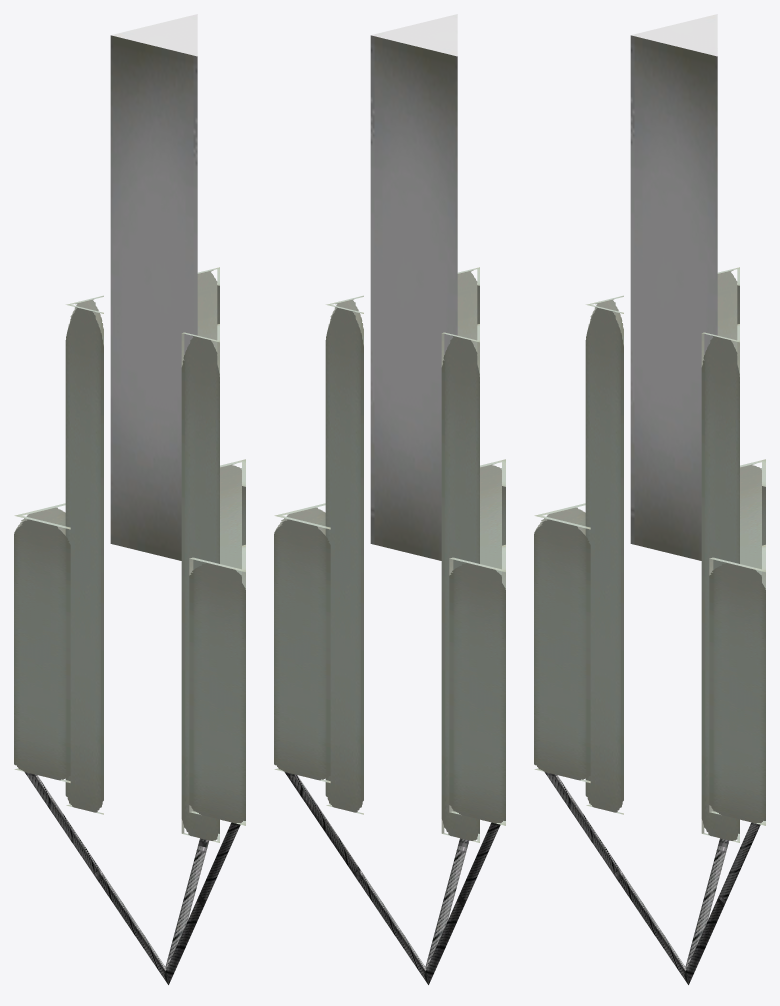
The model's file is corporate_chandelier_4.fbx.
3 renders of one model, left to right at view 1: azimuth 30°, elevation 25°; view 2: azimuth 150°, elevation 25°; view 3: azimuth 270°, elevation 25°, orthographic.
Parts seen in each view (by area): view 1: mesh_1, mesh_0; view 2: mesh_1, mesh_0; view 3: mesh_1, mesh_0.
Boxes of the visible parts, x1,y1,x2,y2 form: mesh_1: [14, 267, 245, 842]; mesh_0: [24, 14, 241, 984]; mesh_1: [274, 267, 505, 842]; mesh_0: [284, 14, 501, 984]; mesh_1: [534, 267, 765, 842]; mesh_0: [544, 14, 761, 984].
Size of the model in its own units: 81.78 by 321 by 70.82.
2 materials, 2 textured.
